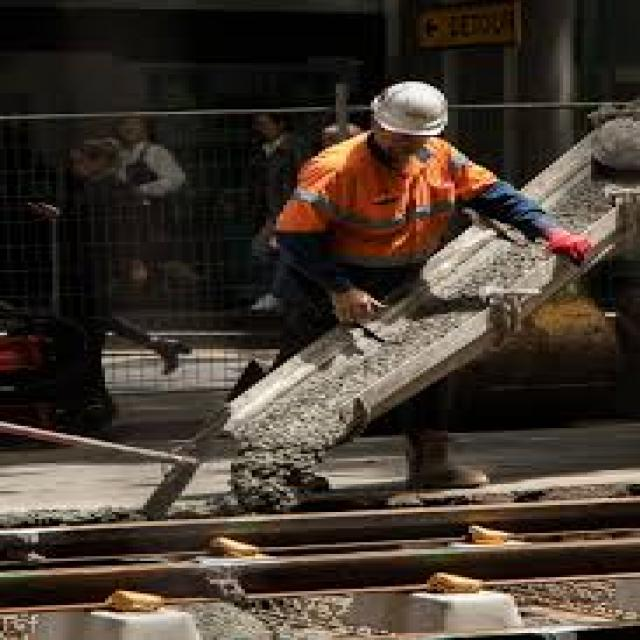Reflective-Jacket: (262, 135, 507, 286)
Safety-Helmet: (350, 72, 465, 144)
